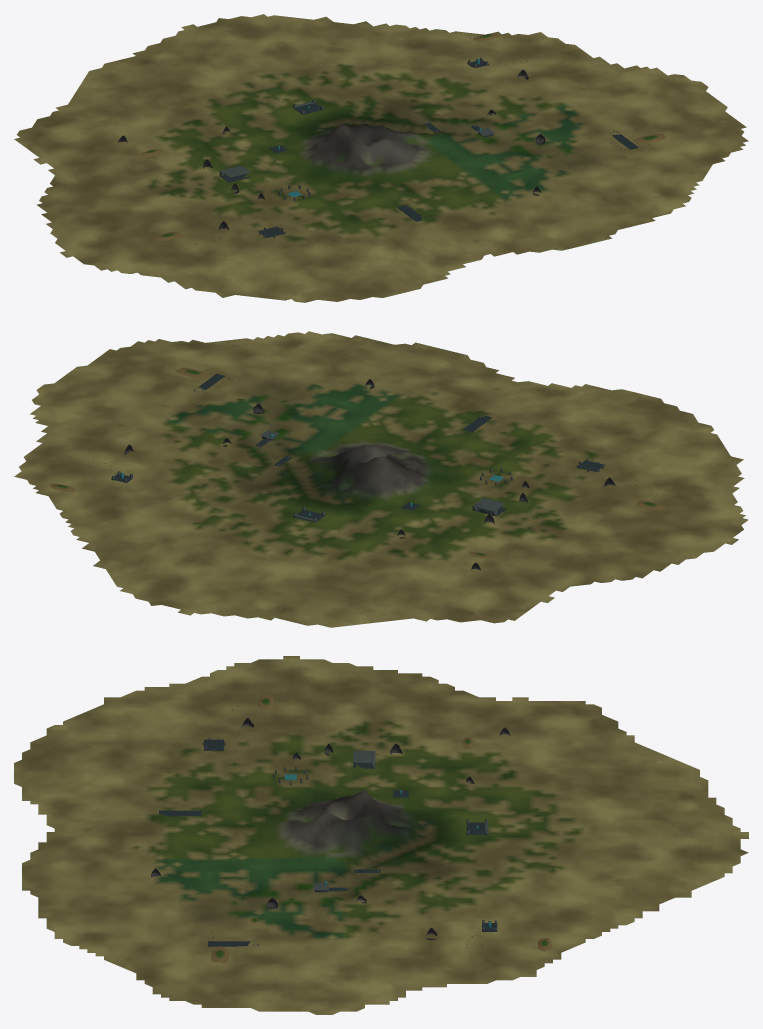
Rendered from demo_map_lod2.obj.
3 renders of one model, top to bottom at view 1: azimuth 30°, elevation 25°; view 2: azimuth 150°, elevation 25°; view 3: azimuth 270°, elevation 25°, orthographic. The views are drawn at different scales.
Parts seen in each view (by area): view 1: mysterious_island_lod2; view 2: mysterious_island_lod2; view 3: mysterious_island_lod2.
Boxes of the visible parts, x1,y1,x2,y2 form: mysterious_island_lod2: (14, 14, 748, 302); mysterious_island_lod2: (14, 331, 748, 627); mysterious_island_lod2: (14, 656, 748, 1014).
Size of the model in its own units: 1664 by 75.96 by 1440.
